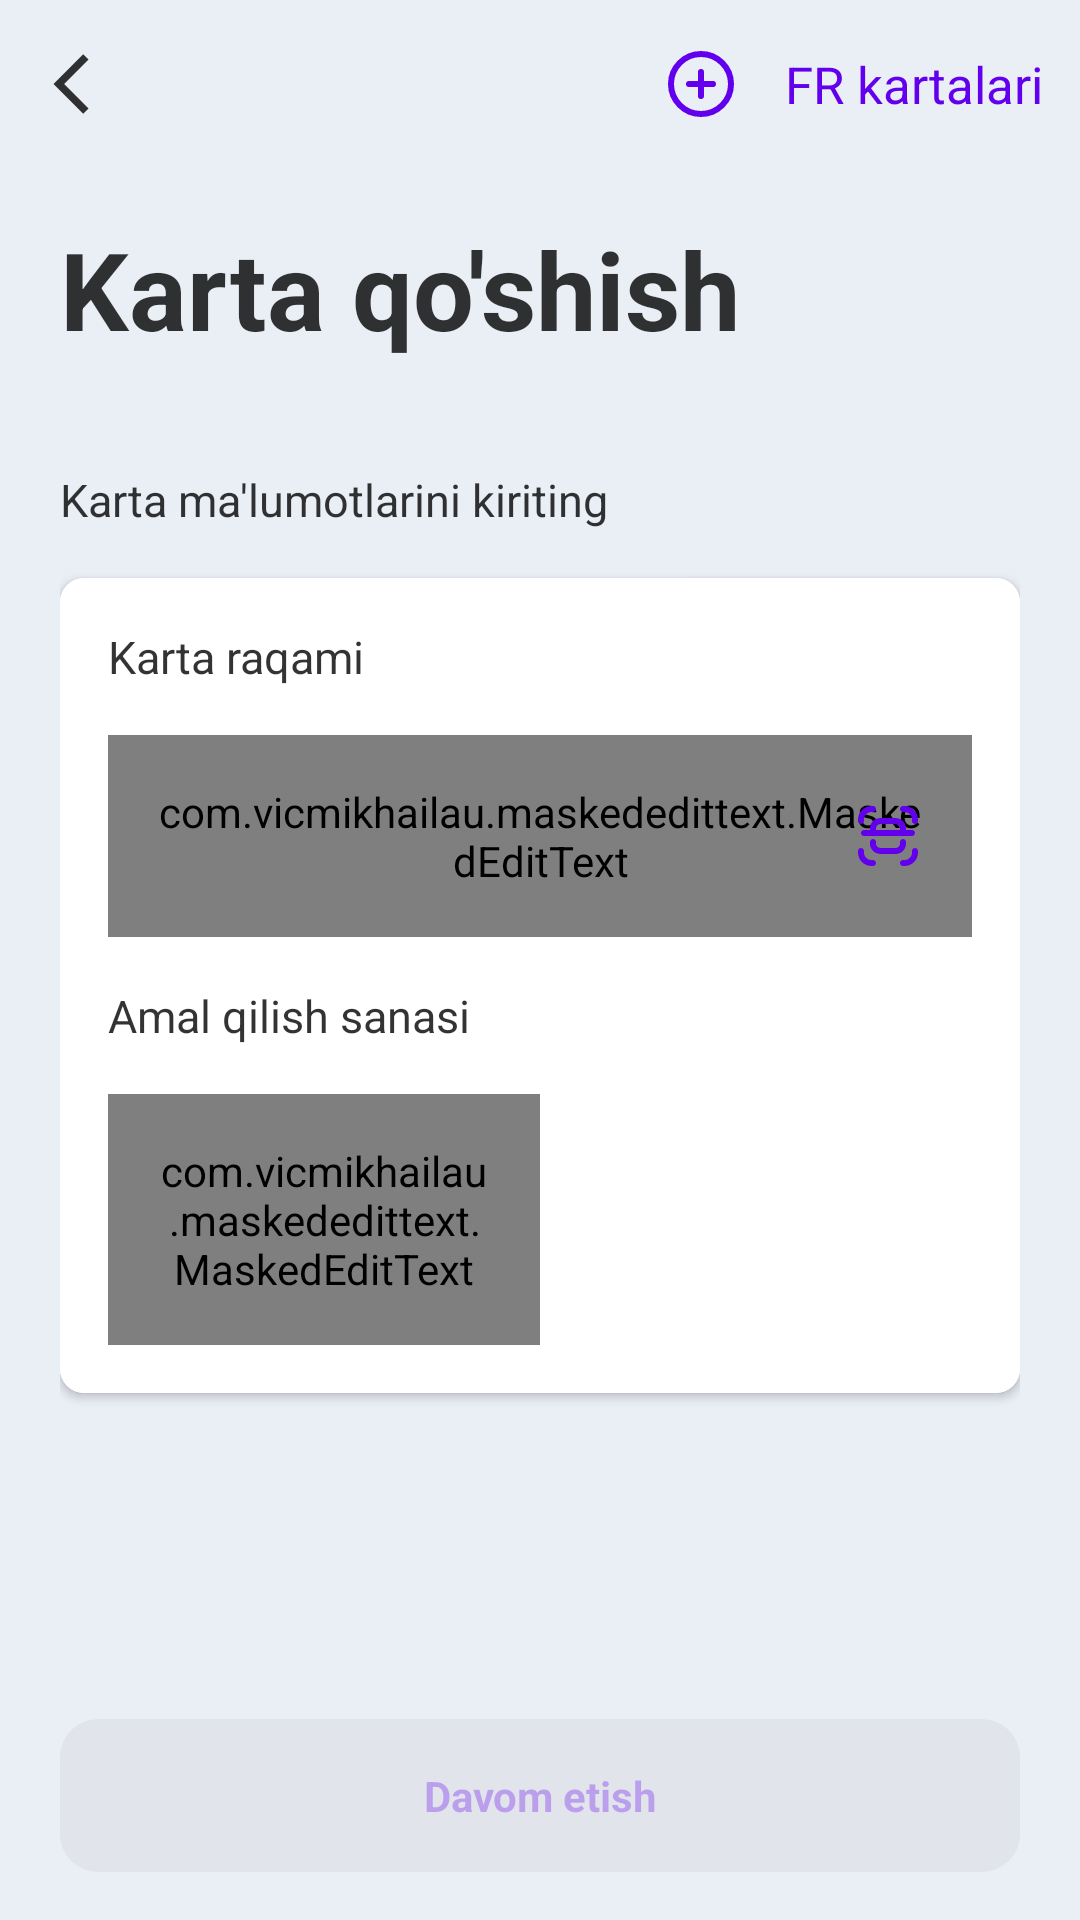

Where to tap for icons on this 1080w x 1920h app screen, as (x,y):
add: (701,84)
back: (71,84)
